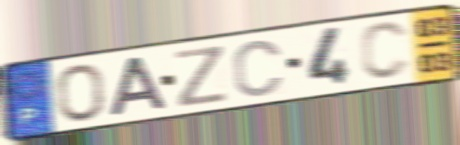4: (304, 24, 358, 92)
A: (107, 54, 171, 119)
C: (358, 19, 414, 82), (231, 37, 287, 99)
O: (53, 62, 108, 123)
Z: (172, 43, 230, 110)
